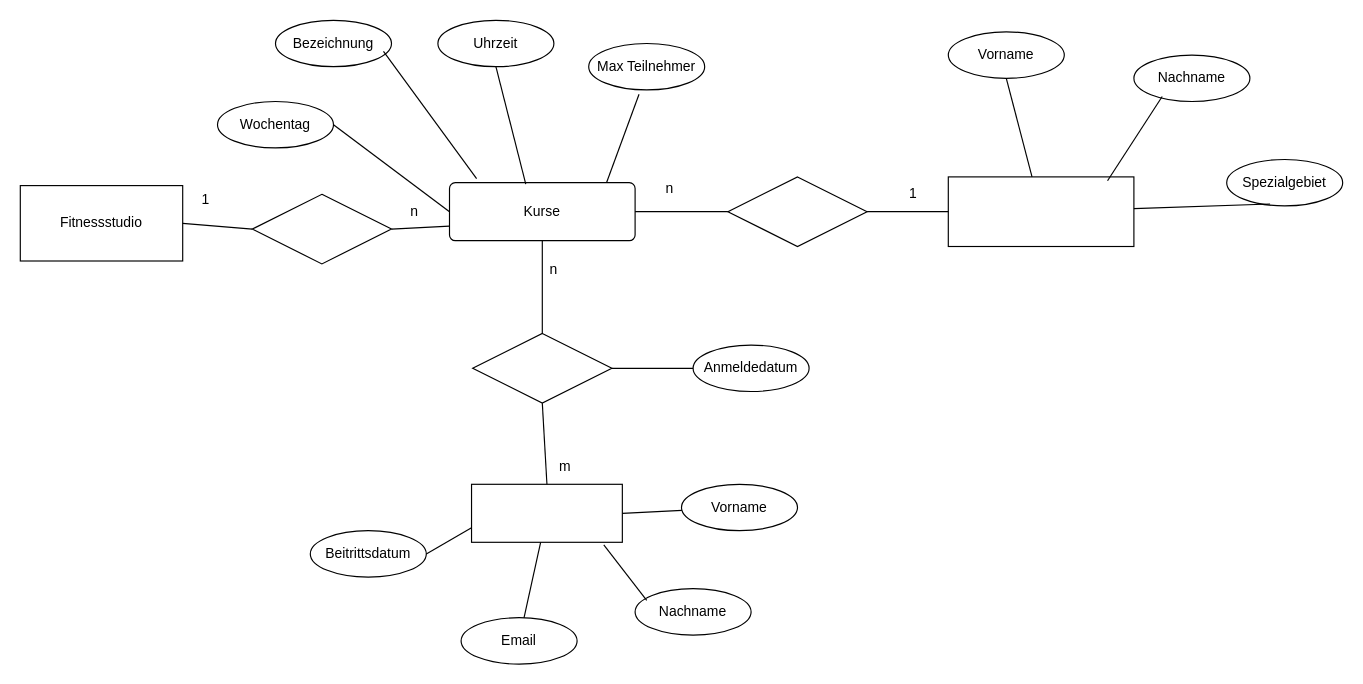
This 1363x684 diagram has some shape labels left out. The centre of each missing label's shape, as x and y in pixels:
"anmelden" belongs at point 542,367.
"hat" belongs at point 321,228.
"leitet" belongs at point 797,211.
"Mitglied" belongs at point 546,512.
"Trainer" belongs at point 1040,211.
